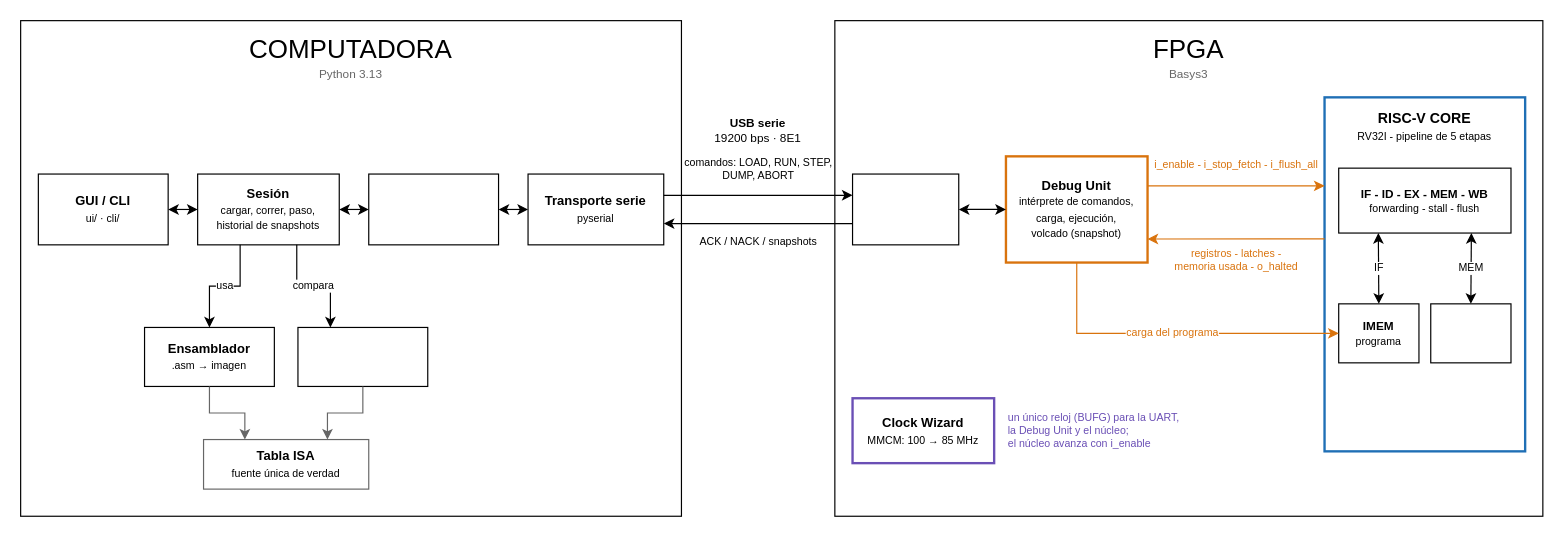
The diagram is 1563 pixels wide and 537 high, and some of its shapes have lost their labels. Each missing label, with the centre of its shape:
"DMEM datos + bitmap" goes at pixel 1470 333.
"Golden model simulador de referencia" goes at pixel 362 356.
"Protocolo codifica comandos, decodifica tramas" goes at pixel 433 209.
"UART RX/TX del TP2" goes at pixel 905 209.
